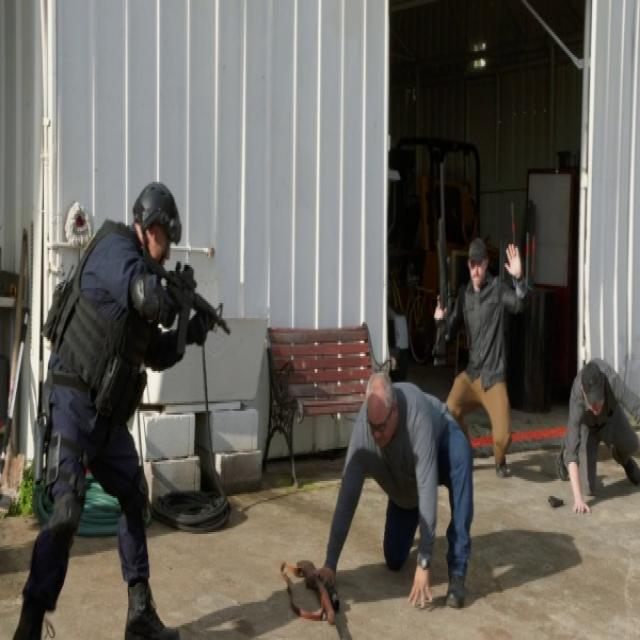rifle: (141, 255, 235, 359)
